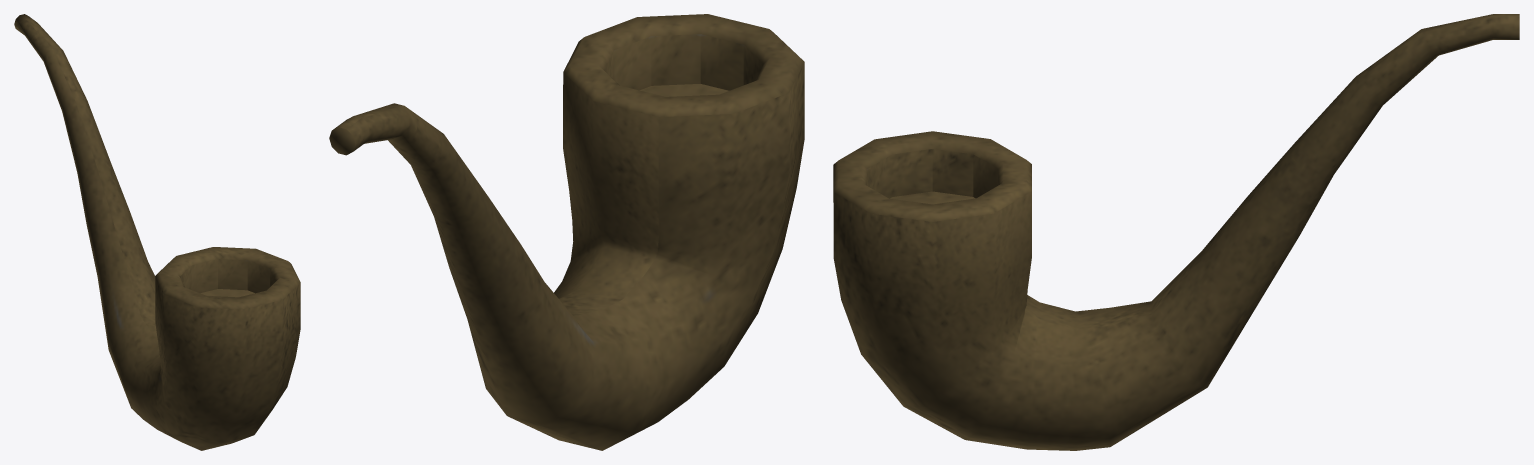
The model's file is detective_pipe.fbx.
The picture shows the model from 3 angles, left to right: view 1: azimuth 30°, elevation 25°; view 2: azimuth 150°, elevation 25°; view 3: azimuth 270°, elevation 25°; orthographic projection. The views are drawn at different scales.
Parts seen in each view (by area): view 1: detective_pipe:Mesh; view 2: detective_pipe:Mesh; view 3: detective_pipe:Mesh.
Boxes of the visible parts, x1,y1,x2,y2 form: detective_pipe:Mesh: [14, 14, 300, 450]; detective_pipe:Mesh: [329, 14, 804, 450]; detective_pipe:Mesh: [833, 14, 1519, 450].
Size of the model in its own units: 1.7 by 3.84 by 5.6.
